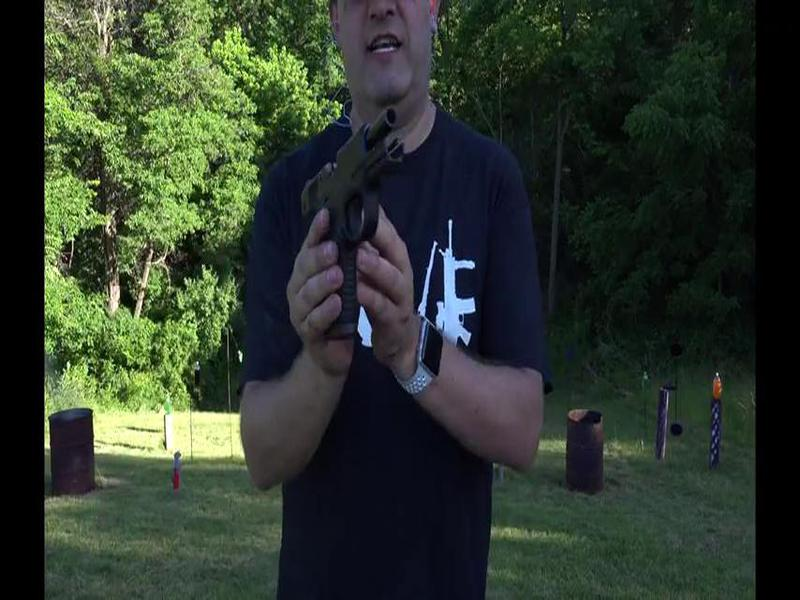Pistola: (290, 100, 415, 364)
